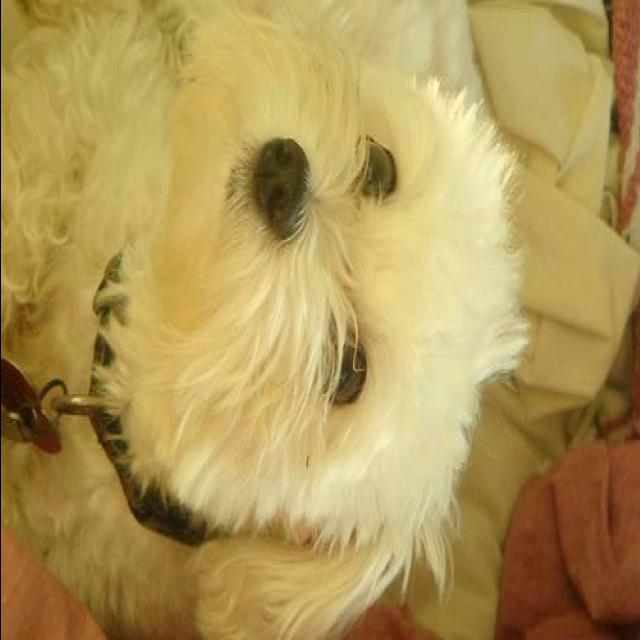maltese_dog: (2, 4, 538, 640)
